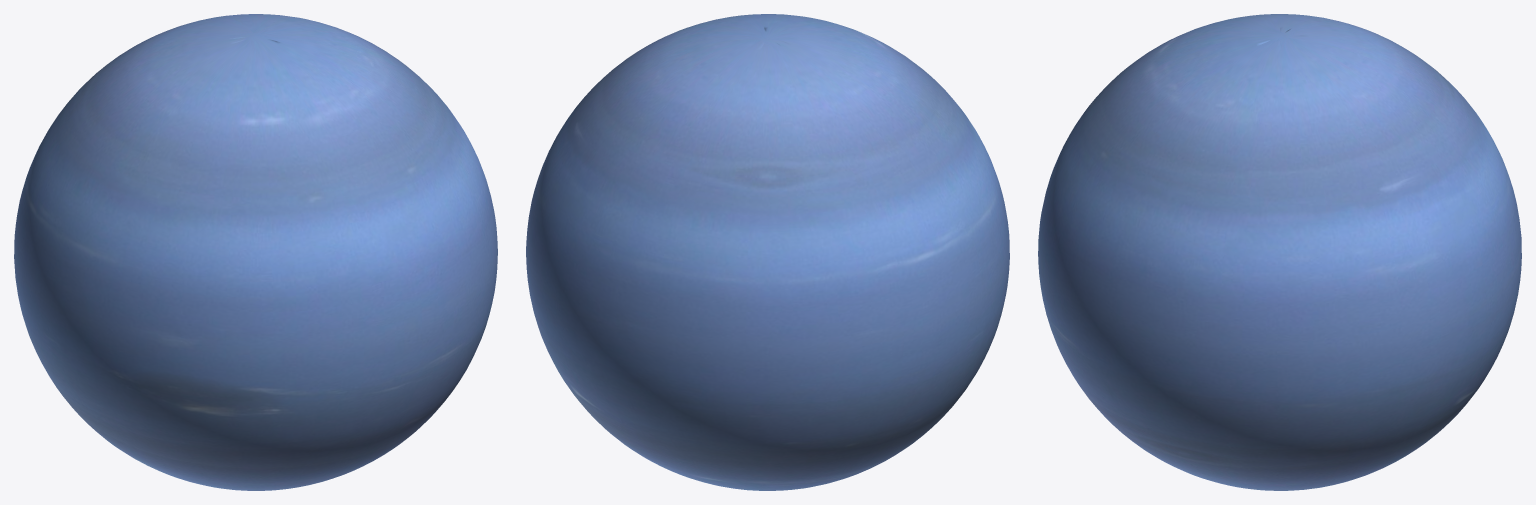
Rendered from neptune.glb.
The picture shows the model from 3 angles, left to right: view 1: azimuth 30°, elevation 25°; view 2: azimuth 150°, elevation 25°; view 3: azimuth 270°, elevation 25°; orthographic projection.
Parts seen in each view (by area): view 1: Neptune_surface_Neptune; view 2: Neptune_surface_Neptune; view 3: Neptune_surface_Neptune.
Boxes of the visible parts, <box> form: Neptune_surface_Neptune: <box>14,14,497,490</box>; Neptune_surface_Neptune: <box>526,14,1009,490</box>; Neptune_surface_Neptune: <box>1038,14,1521,490</box>.
Size of the model in its own units: 2 by 1.97 by 2.
1 material, 1 textured.
